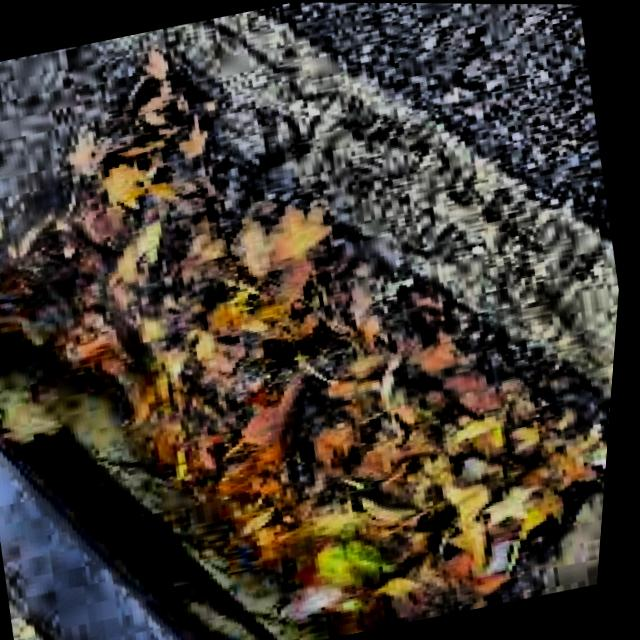clogged_drains: (0, 22, 623, 640)
